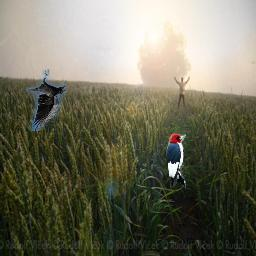Crow: (26, 69, 66, 131)
Woodpecker: (166, 131, 187, 189)
